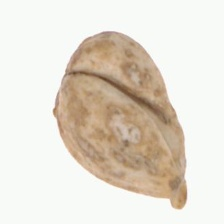L1: (162, 156, 190, 211)
L2: (53, 30, 189, 209)
